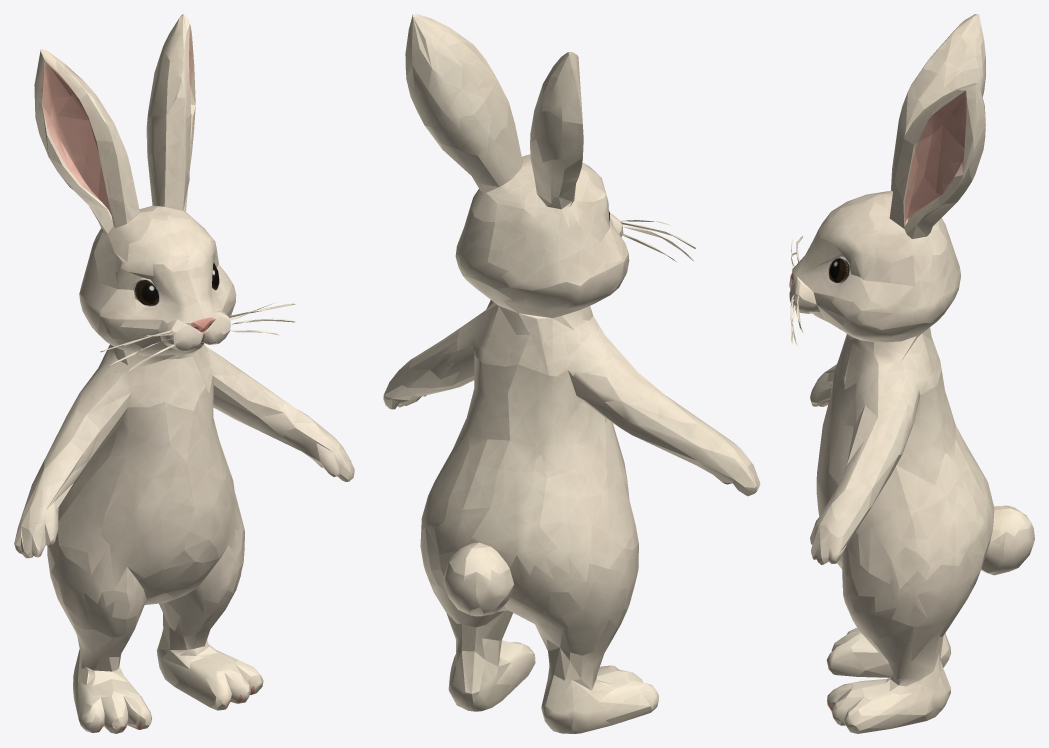
The model's file is rabbit-apose.glb.
3 views of the same model, side by side, from view 1: azimuth 30°, elevation 25°; view 2: azimuth 150°, elevation 25°; view 3: azimuth 270°, elevation 25° (orthographic). The views are drawn at different scales.
Visible parts, largest first — view 1: output_unwrapped; view 2: output_unwrapped; view 3: output_unwrapped.
Part boxes in pixels (bbox=[...]): output_unwrapped: bbox=[14, 14, 354, 733]; output_unwrapped: bbox=[383, 14, 760, 733]; output_unwrapped: bbox=[789, 14, 1034, 733].
Bounding box in the file's own units: 1.05 × 1.9 × 0.6573.
Materials: 1 (1 with a texture image).
